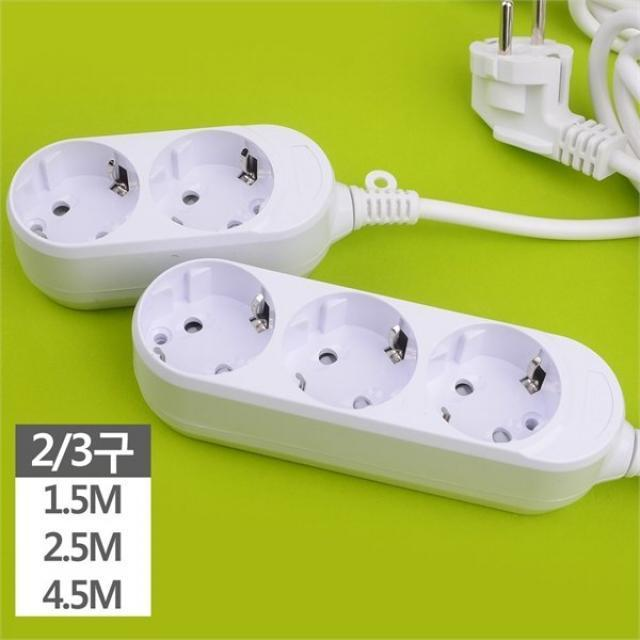typeb: (99, 237, 627, 539), (6, 69, 381, 286)
